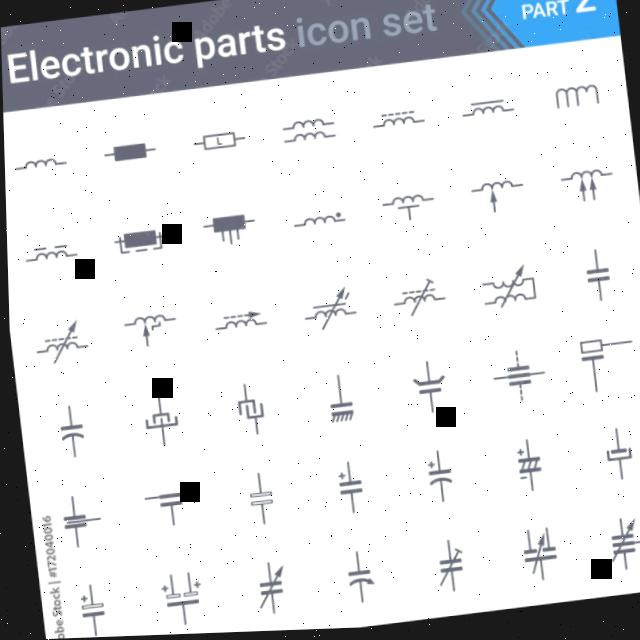capacitor: (566, 331, 634, 400), (127, 477, 202, 534), (234, 557, 299, 622), (485, 345, 547, 411), (146, 567, 205, 632), (323, 546, 381, 611), (506, 524, 561, 590), (495, 438, 551, 502), (417, 535, 468, 601), (48, 490, 102, 550), (409, 447, 460, 508), (64, 580, 114, 639), (404, 361, 453, 421), (129, 395, 181, 450), (591, 427, 636, 490), (234, 470, 282, 529), (48, 401, 92, 461), (312, 374, 359, 430), (228, 378, 267, 442), (598, 516, 640, 573), (327, 459, 368, 517), (575, 249, 611, 307)
inductor: (285, 285, 364, 341), (473, 263, 540, 319), (550, 165, 615, 215), (29, 316, 88, 365), (202, 303, 272, 343), (384, 277, 448, 320), (544, 82, 607, 121), (278, 113, 340, 152), (377, 190, 435, 230), (470, 176, 522, 218), (369, 104, 420, 140), (22, 236, 76, 270), (289, 206, 344, 238), (126, 309, 173, 345), (461, 92, 508, 125), (19, 149, 66, 180)
